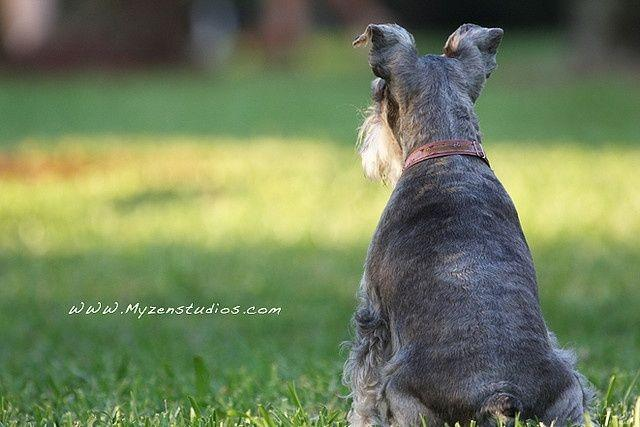adult_dog: (340, 20, 588, 425)
